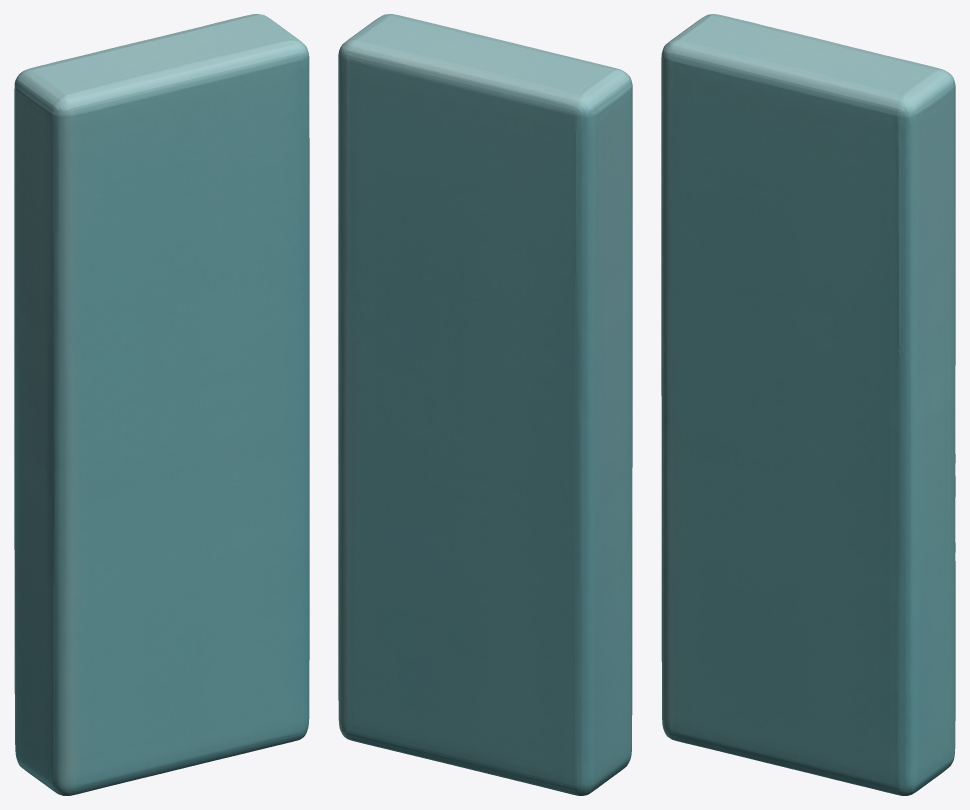
Rendered from set3_obj2.glb.
3 renders of one model, left to right at view 1: azimuth 30°, elevation 25°; view 2: azimuth 150°, elevation 25°; view 3: azimuth 330°, elevation 25°, orthographic.
Visible parts, largest first — view 1: world; view 2: world; view 3: world.
Boxes of the visible parts, x1=… form: world: x1=14, y1=14, x2=309, y2=795; world: x1=338, y1=14, x2=632, y2=795; world: x1=661, y1=14, x2=955, y2=795.
Size of the model in its own units: 0.3863 by 1 by 0.1316.
